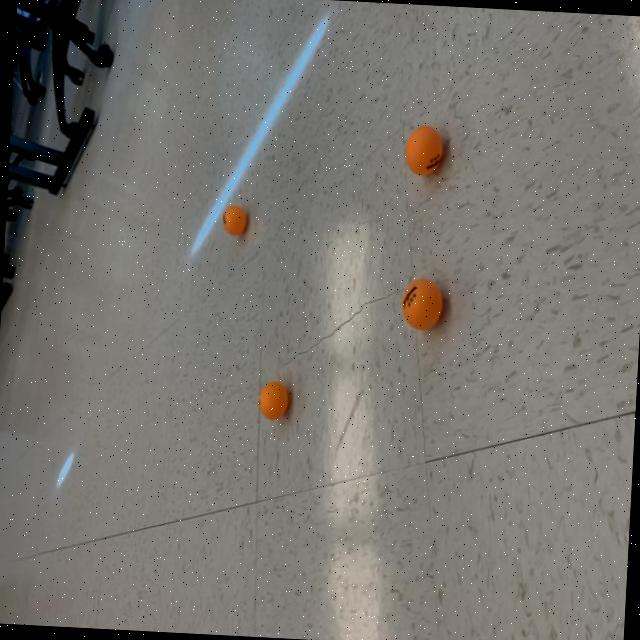ping-pong-ball: (397, 276, 446, 338), (398, 117, 447, 179), (253, 378, 292, 424), (218, 199, 248, 239)
